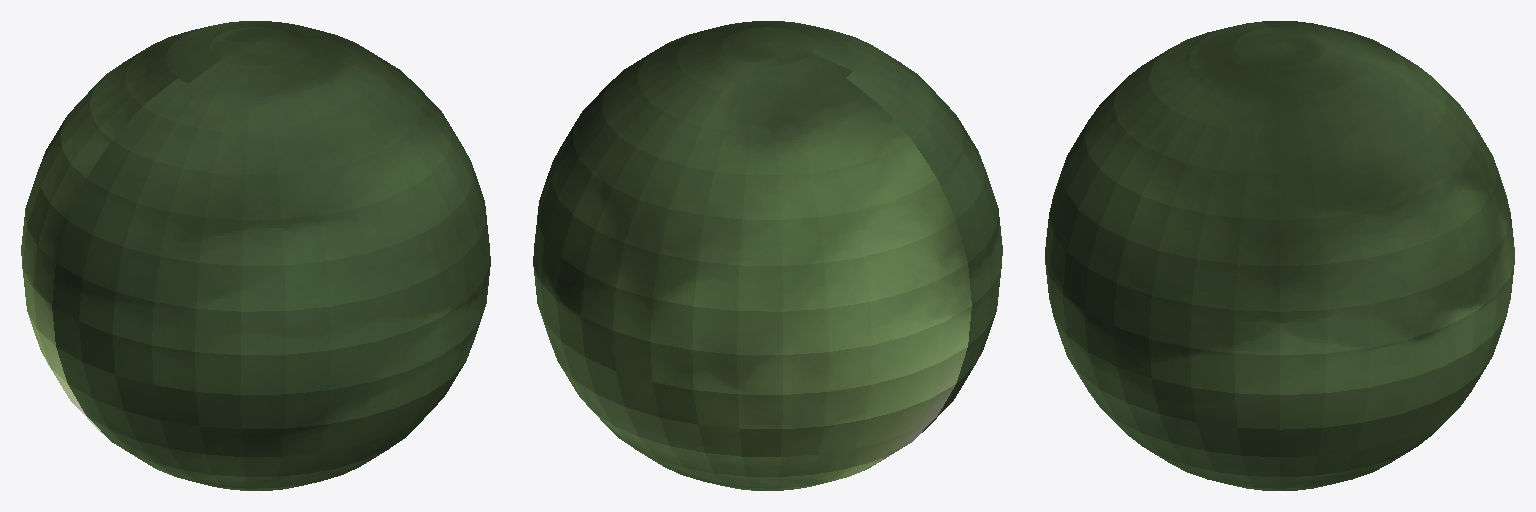
3 renders of one model, left to right at view 1: azimuth 30°, elevation 25°; view 2: azimuth 150°, elevation 25°; view 3: azimuth 270°, elevation 25°, orthographic.
Parts seen in each view (by area): view 1: sky_Sphere; view 2: sky_Sphere; view 3: sky_Sphere.
Boxes of the visible parts, <box> form: sky_Sphere: <box>21,21,490,490</box>; sky_Sphere: <box>533,21,1002,490</box>; sky_Sphere: <box>1045,21,1514,490</box>.
Size of the model in its own units: 100 by 100 by 100.
Materials: 1 (1 with a texture image).